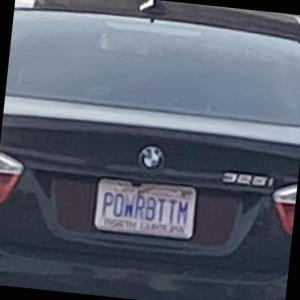Plate: (91, 177, 198, 241)
